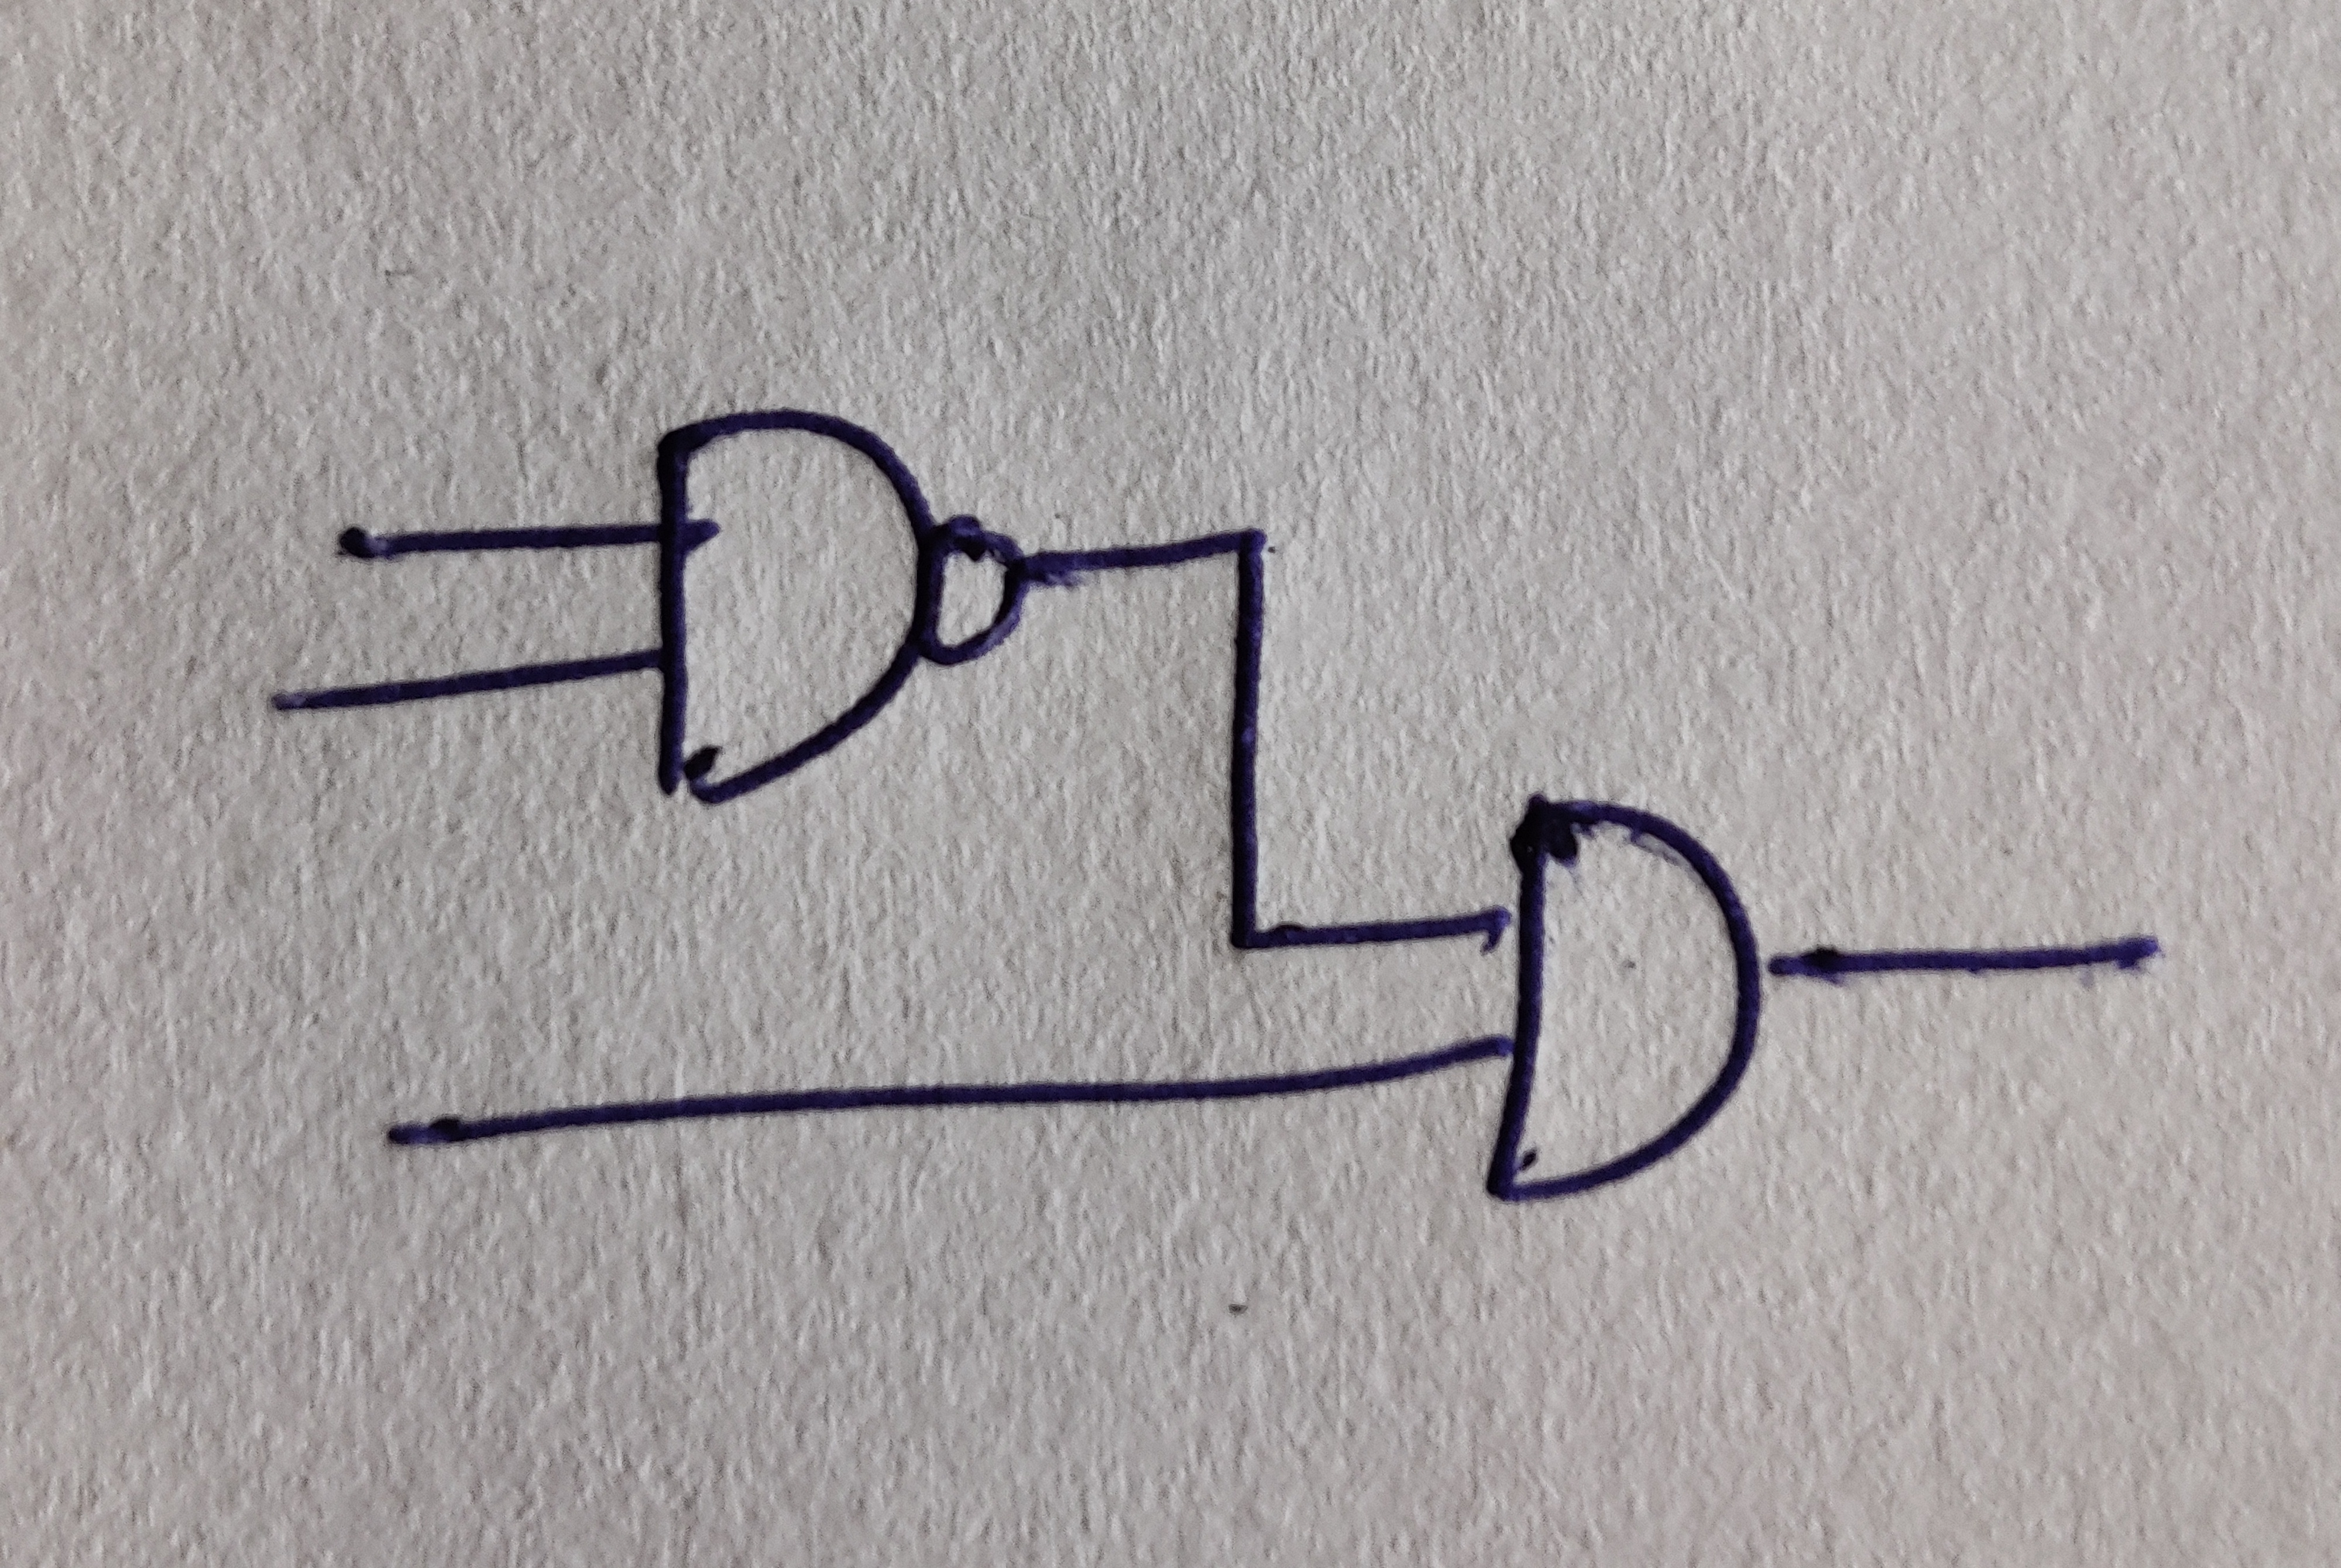and: (654, 408, 943, 807), (1484, 800, 1762, 1202)
not: (926, 518, 1027, 668)
